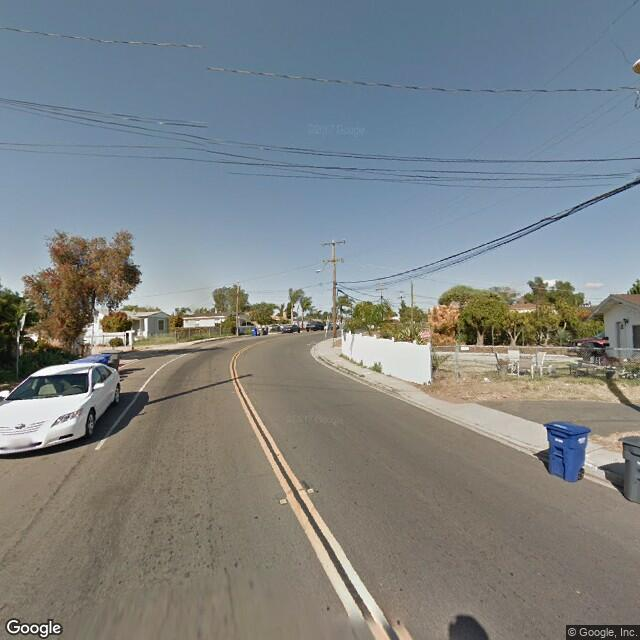litter: (484, 374, 495, 392)
